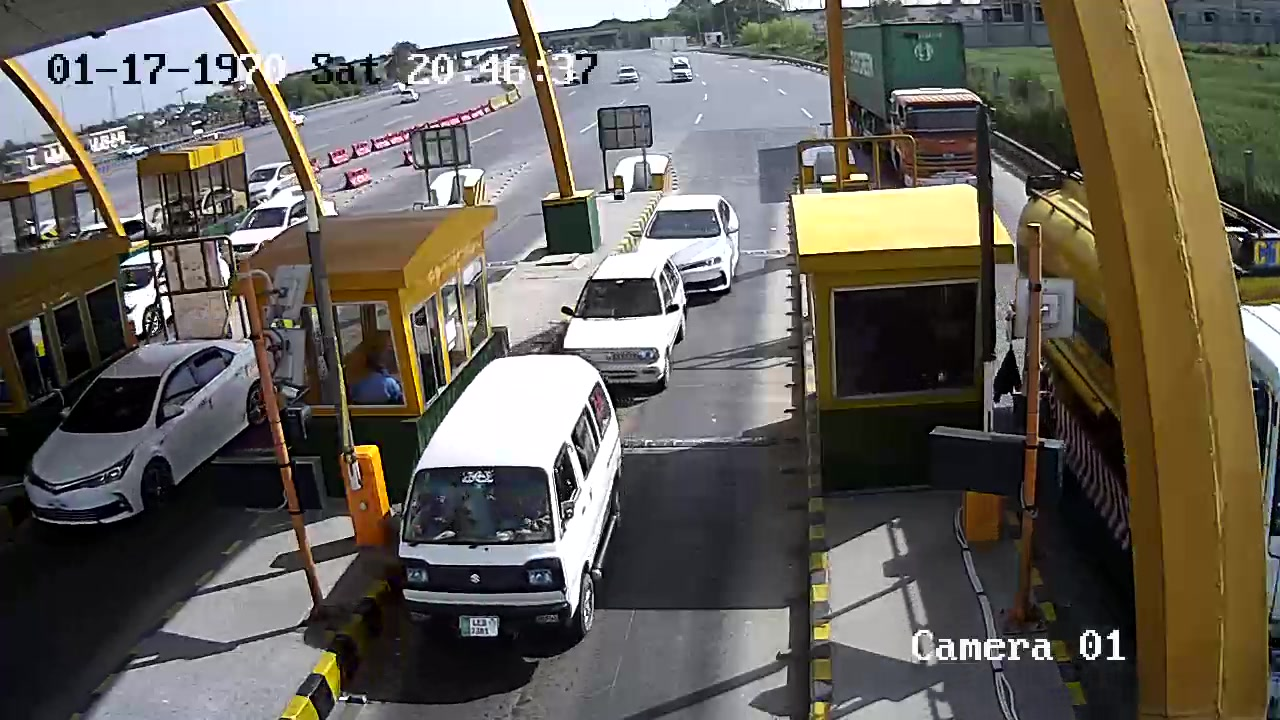F1: (401, 351, 623, 645)
